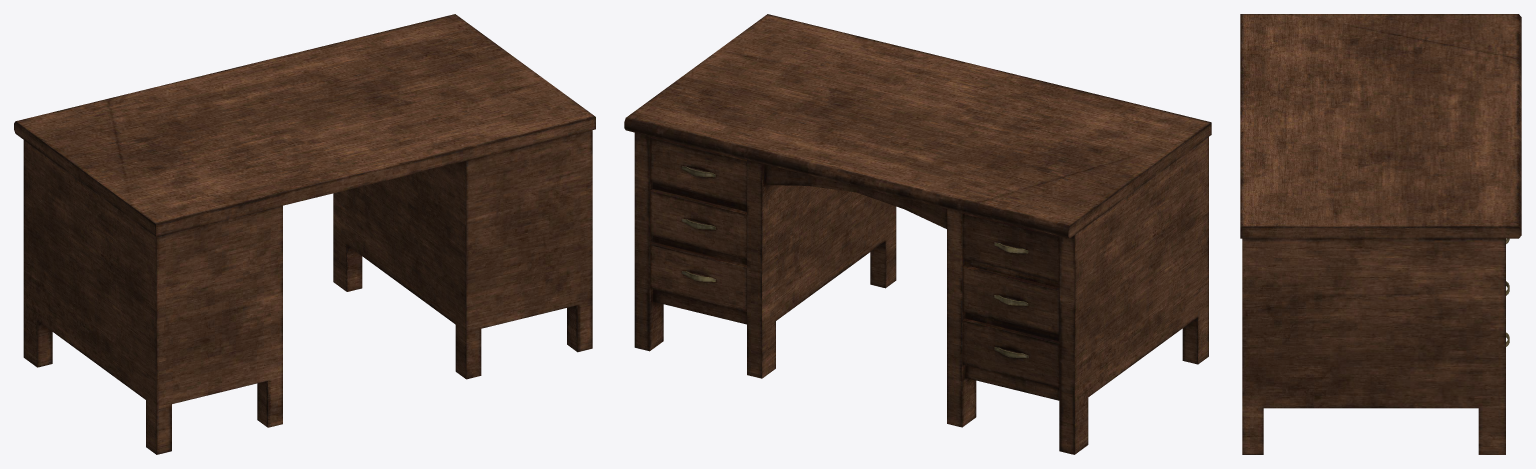
File: TableOffice.glb
The picture shows the model from 3 angles, left to right: view 1: azimuth 30°, elevation 25°; view 2: azimuth 150°, elevation 25°; view 3: azimuth 270°, elevation 25°; orthographic projection.
Visible parts, largest first — view 1: TableOffice; view 2: TableOffice; view 3: TableOffice.
Part boxes in pixels (x1,y1,x2,y2): TableOffice: [14, 14, 595, 454]; TableOffice: [624, 14, 1211, 454]; TableOffice: [1240, 14, 1521, 454].
Size of the model in its own units: 1.58 by 0.7972 by 0.8849.
1 material, 1 textured.
